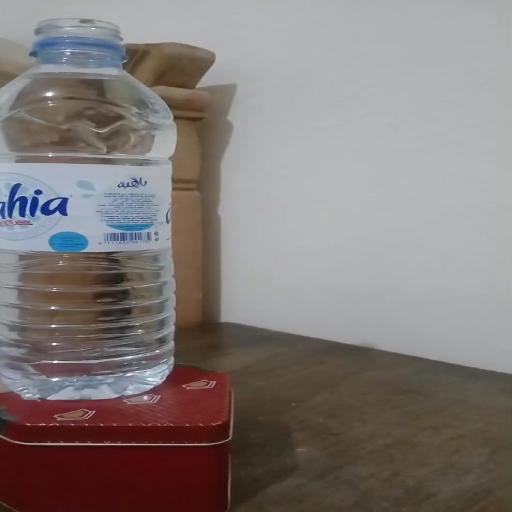bouteille non conformite: (18, 10, 178, 402)
